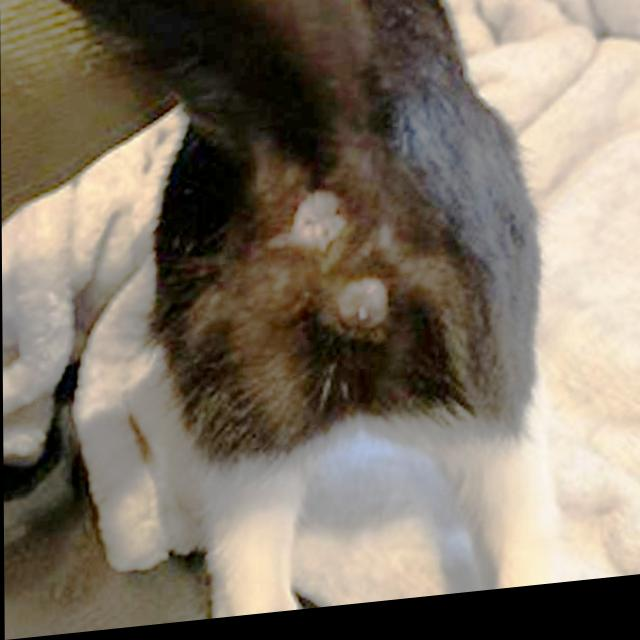lump_and_bump: (292, 192, 345, 249), (337, 279, 386, 335)
